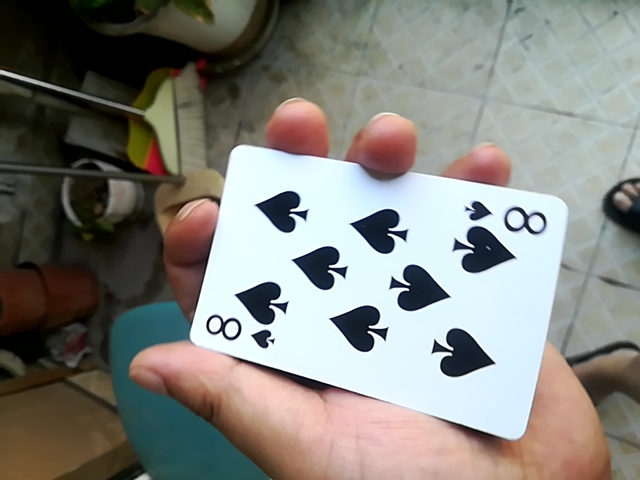ht 8: (173, 138, 563, 437)
